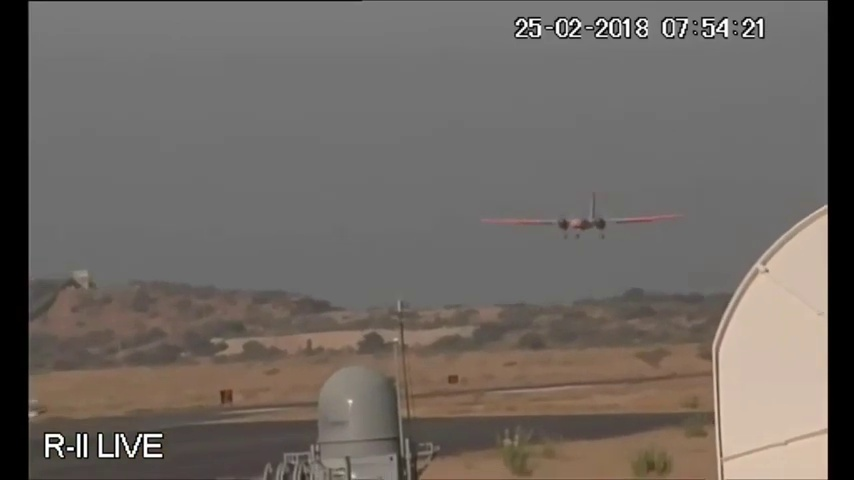military drone: (481, 191, 685, 240)
